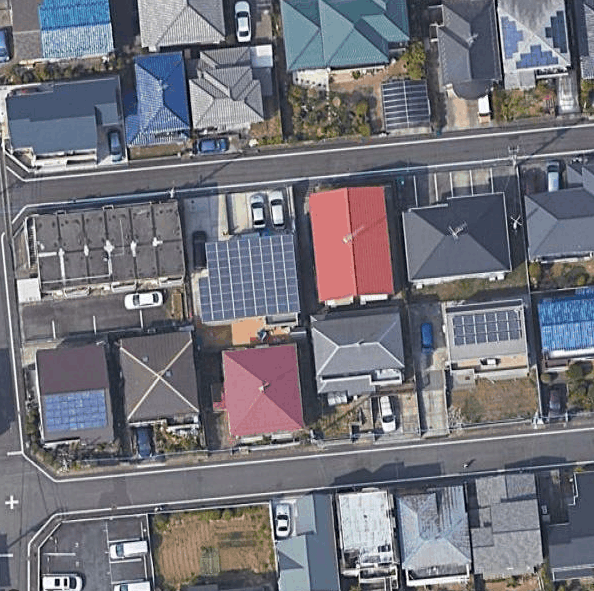solarpanel_flat: (195, 230, 303, 320), (443, 299, 535, 367)
solarpanel_slope: (490, 0, 572, 72)
